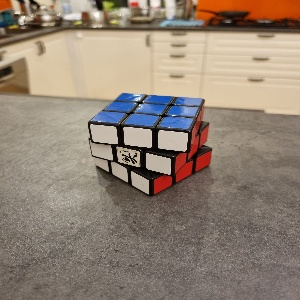cube: (87, 92, 214, 197)
